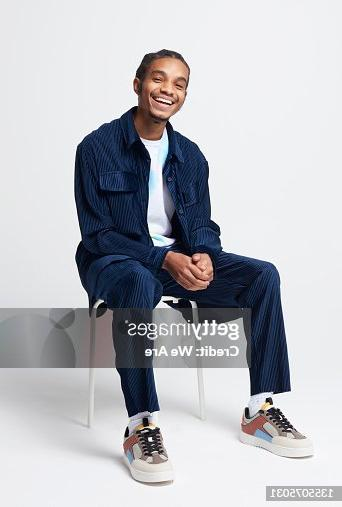jacket: (74, 104, 225, 280)
short sleeve shirt: (137, 125, 180, 248)
trousers: (76, 242, 294, 418)
